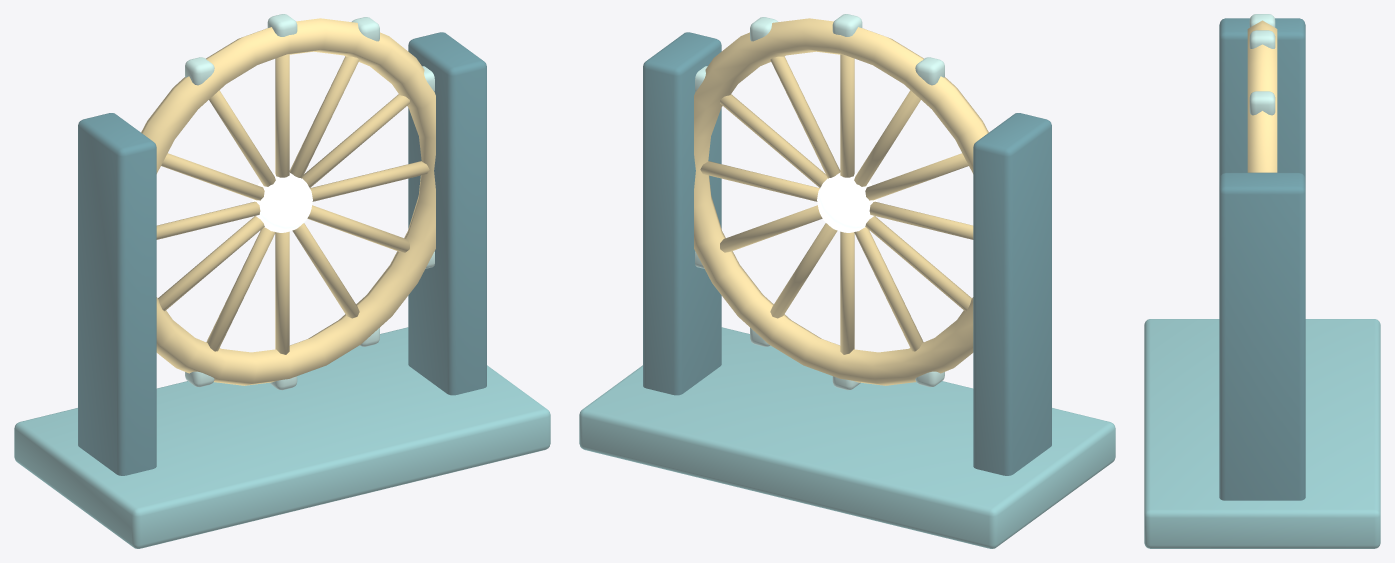
Rendered from atlantis_detail_tide_engine.glb.
3 views of the same model, side by side, from view 1: azimuth 30°, elevation 25°; view 2: azimuth 150°, elevation 25°; view 3: azimuth 270°, elevation 25° (orthographic). The views are drawn at different scales.
Parts seen in each view (by area): view 1: atlantis_detail_tide_engine_part_0, atlantis_detail_tide_engine_part_1; view 2: atlantis_detail_tide_engine_part_0, atlantis_detail_tide_engine_part_1; view 3: atlantis_detail_tide_engine_part_0, atlantis_detail_tide_engine_part_1.
Boxes of the visible parts, left/top/right/bottom form: atlantis_detail_tide_engine_part_0: left=14, top=32, right=550, bottom=548; atlantis_detail_tide_engine_part_1: left=141, top=14, right=435, bottom=390; atlantis_detail_tide_engine_part_0: left=579, top=32, right=1115, bottom=548; atlantis_detail_tide_engine_part_1: left=694, top=14, right=988, bottom=390; atlantis_detail_tide_engine_part_0: left=1144, top=18, right=1380, bottom=548; atlantis_detail_tide_engine_part_1: left=1247, top=14, right=1277, bottom=172.
Bounding box in the file's own units: 4.3 × 4.31 × 2.2.
